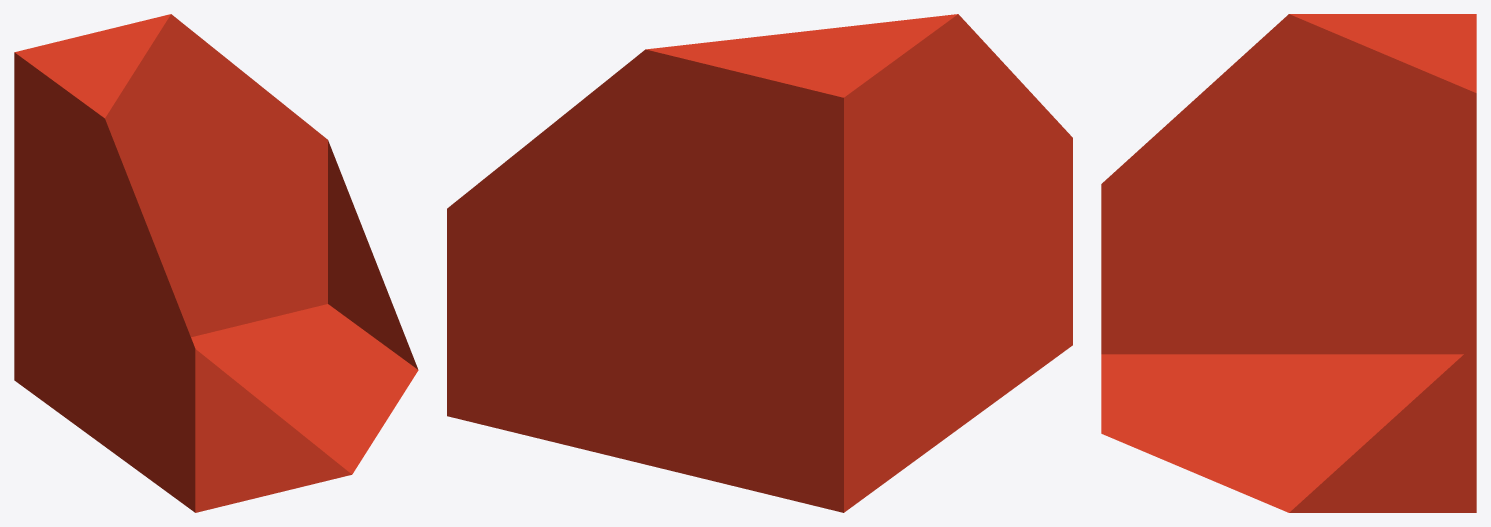
Rendered from r5c7_body_red.gltf.
The picture shows the model from 3 angles, left to right: view 1: azimuth 30°, elevation 25°; view 2: azimuth 150°, elevation 25°; view 3: azimuth 270°, elevation 25°; orthographic projection. The views are drawn at different scales.
Parts seen in each view (by area): view 1: r5c7_body_red; view 2: r5c7_body_red; view 3: r5c7_body_red.
Boxes of the visible parts, left/top/right/bottom form: r5c7_body_red: left=14, top=14, right=418, bottom=512; r5c7_body_red: left=447, top=14, right=1072, bottom=512; r5c7_body_red: left=1101, top=14, right=1476, bottom=512.
Size of the model in its own units: 2 by 2 by 2.
1 material, 1 textured.
